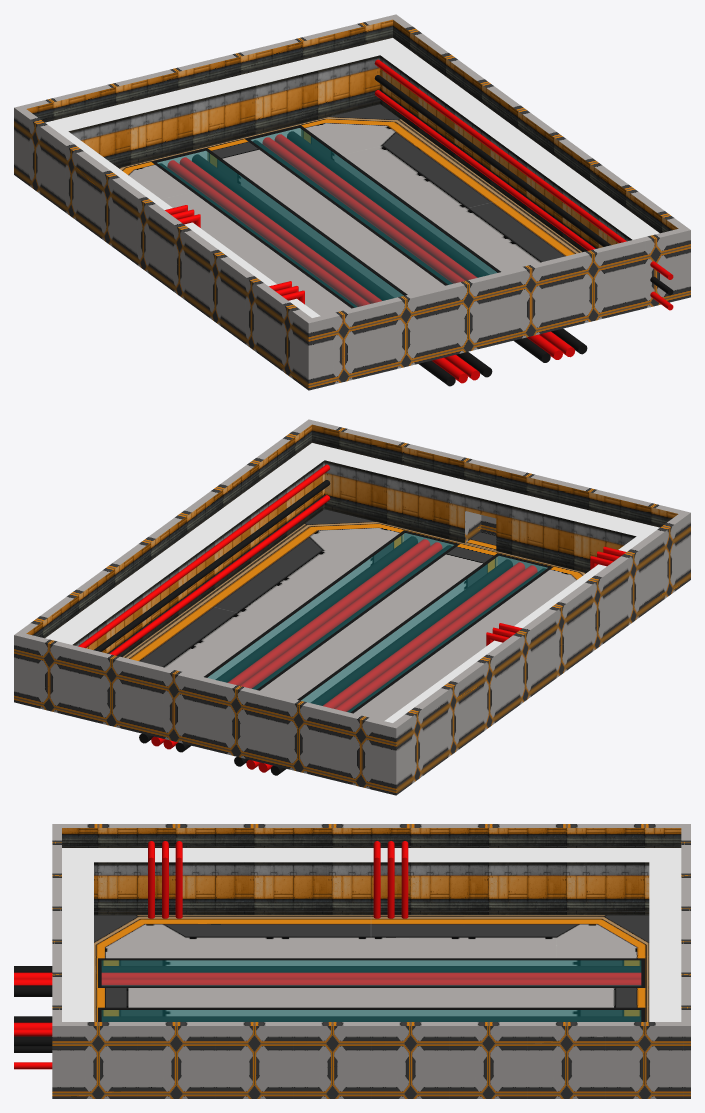
File: Scenerie.FBX
The picture shows the model from 3 angles, top to bottom: view 1: azimuth 30°, elevation 25°; view 2: azimuth 150°, elevation 25°; view 3: azimuth 270°, elevation 25°; orthographic projection. The views are drawn at different scales.
Visible parts, largest first — view 1: Plane001, Object001, Line002, Line003, Line007, Line004, Line006, Line005, Line014, Line012, Line010, Line008 (+1 smaller); view 2: Plane001, Object001, Line002, Line003, Line006, Line004, Line005, Line007, Line014, Line012, Line010, Line008 (+1 smaller); view 3: Plane001, Object001, Line001, Line002, Line003, Line008, Line004, Line016, Line017, Line018, Line015, Line019 (+1 smaller).
Part boxes in pixels (x1,y1,x2,y2): Plane001: [14, 14, 690, 390]; Object001: [151, 125, 500, 308]; Line002: [167, 160, 467, 383]; Line003: [179, 157, 479, 380]; Line007: [287, 131, 587, 354]; Line004: [191, 154, 492, 377]; Line006: [262, 137, 562, 359]; Line005: [274, 134, 574, 357]; Line014: [374, 59, 673, 279]; Line012: [374, 75, 673, 295]; Line010: [374, 90, 673, 310]; Line008: [253, 140, 550, 362]; Plane001: [14, 419, 690, 795]; Object001: [204, 530, 553, 713]; Line002: [258, 565, 537, 772]; Line003: [246, 562, 525, 769]; Line006: [163, 542, 442, 749]; Line004: [234, 559, 513, 766]; Line005: [151, 539, 430, 746]; Line007: [139, 536, 417, 743]; Line014: [78, 464, 330, 648]; Line012: [93, 480, 330, 651]; Line010: [109, 495, 330, 655]; Line008: [175, 545, 451, 752]; Plane001: [52, 824, 690, 1098]; Object001: [98, 958, 645, 1021]; Line001: [14, 966, 641, 972]; Line002: [14, 972, 641, 978]; Line003: [14, 979, 641, 985]; Line008: [14, 1016, 641, 1022]; Line004: [14, 985, 641, 996]; Line016: [387, 841, 394, 918]; Line017: [401, 841, 408, 918]; Line018: [175, 841, 182, 918]; Line015: [373, 841, 380, 918]; Line019: [148, 841, 154, 918].
Bounding box in the file's own units: 122 × 25.59 × 173.
